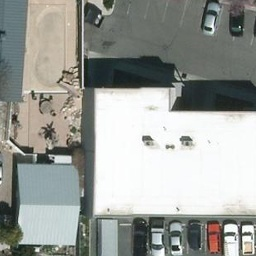car: (200, 1, 221, 39), (129, 218, 149, 256), (148, 218, 168, 256), (167, 218, 187, 256), (185, 218, 205, 256), (202, 218, 222, 256), (221, 218, 241, 256), (227, 3, 247, 38), (241, 218, 256, 256)
